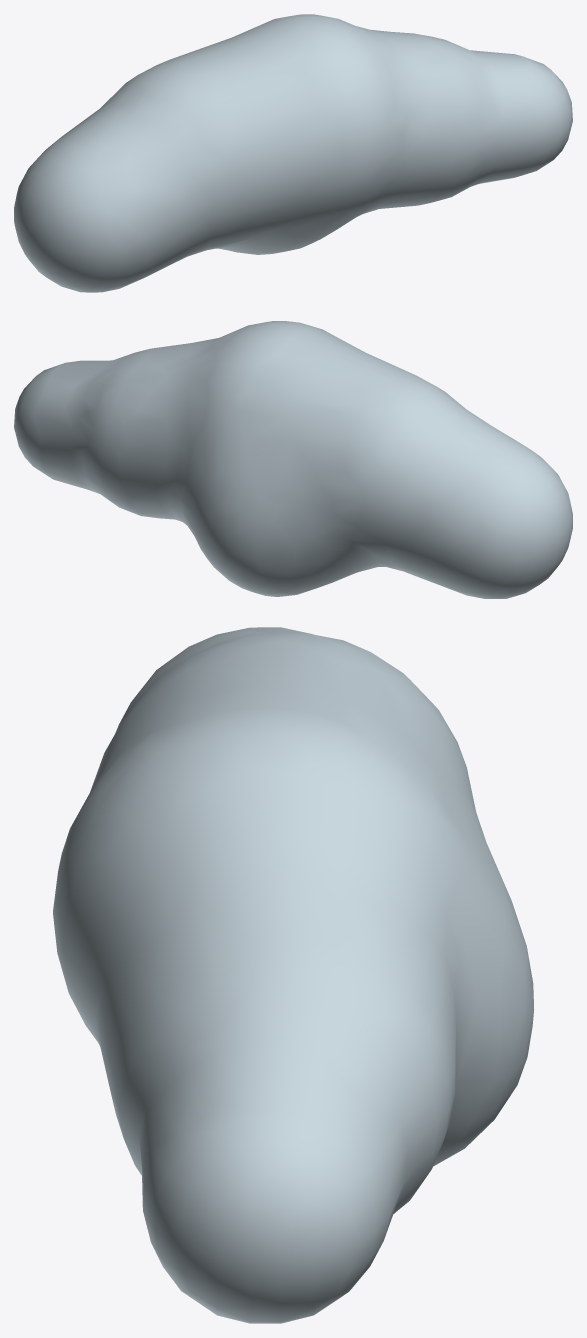
The model's file is cloud_cluster_a.glb.
3 renders of one model, top to bottom at view 1: azimuth 30°, elevation 25°; view 2: azimuth 150°, elevation 25°; view 3: azimuth 270°, elevation 25°, orthographic. The views are drawn at different scales.
Visible parts, largest first — view 1: cloud_cluster_a; view 2: cloud_cluster_a; view 3: cloud_cluster_a.
Boxes of the visible parts, x1,y1,x2,y2 form: cloud_cluster_a: (14, 14, 572, 292); cloud_cluster_a: (14, 321, 572, 598); cloud_cluster_a: (53, 627, 534, 1323).
Bounding box in the file's own units: 6.54 × 2.72 × 2.53.
